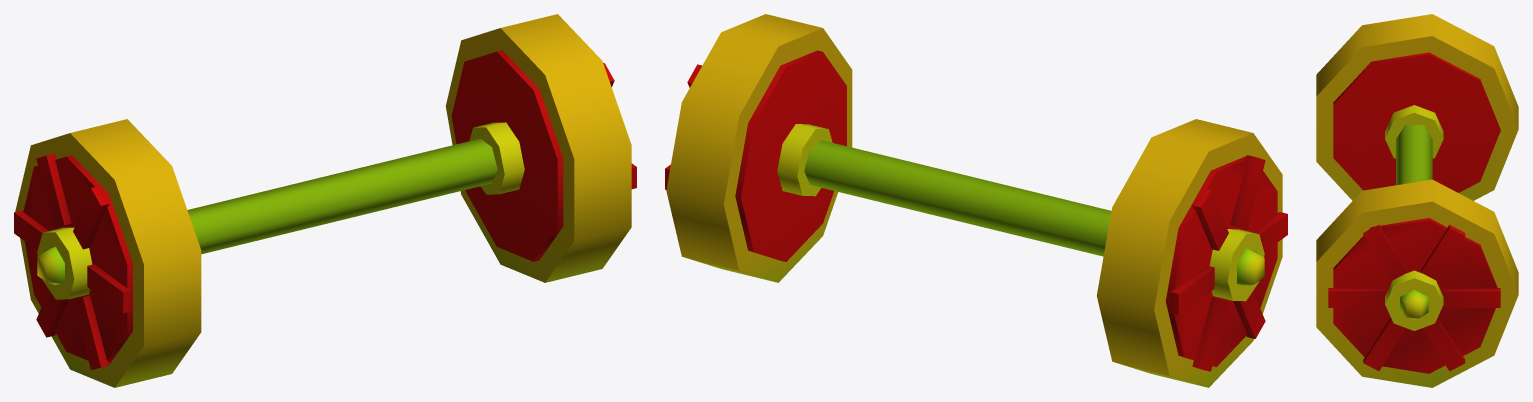
File: Ballista_wheel2_LOD1.glb
3 views of the same model, side by side, from view 1: azimuth 30°, elevation 25°; view 2: azimuth 150°, elevation 25°; view 3: azimuth 270°, elevation 25° (orthographic). The views are drawn at different scales.
Visible parts, largest first — view 1: Ballista_wheel2_LOD1; view 2: Ballista_wheel2_LOD1; view 3: Ballista_wheel2_LOD1.
Boxes of the visible parts, x1=… form: Ballista_wheel2_LOD1: x1=14, y1=14, x2=636, y2=387; Ballista_wheel2_LOD1: x1=665, y1=14, x2=1287, y2=387; Ballista_wheel2_LOD1: x1=1316, y1=14, x2=1518, y2=387.
Size of the model in its own units: 2.27 by 0.906 by 0.8923.
